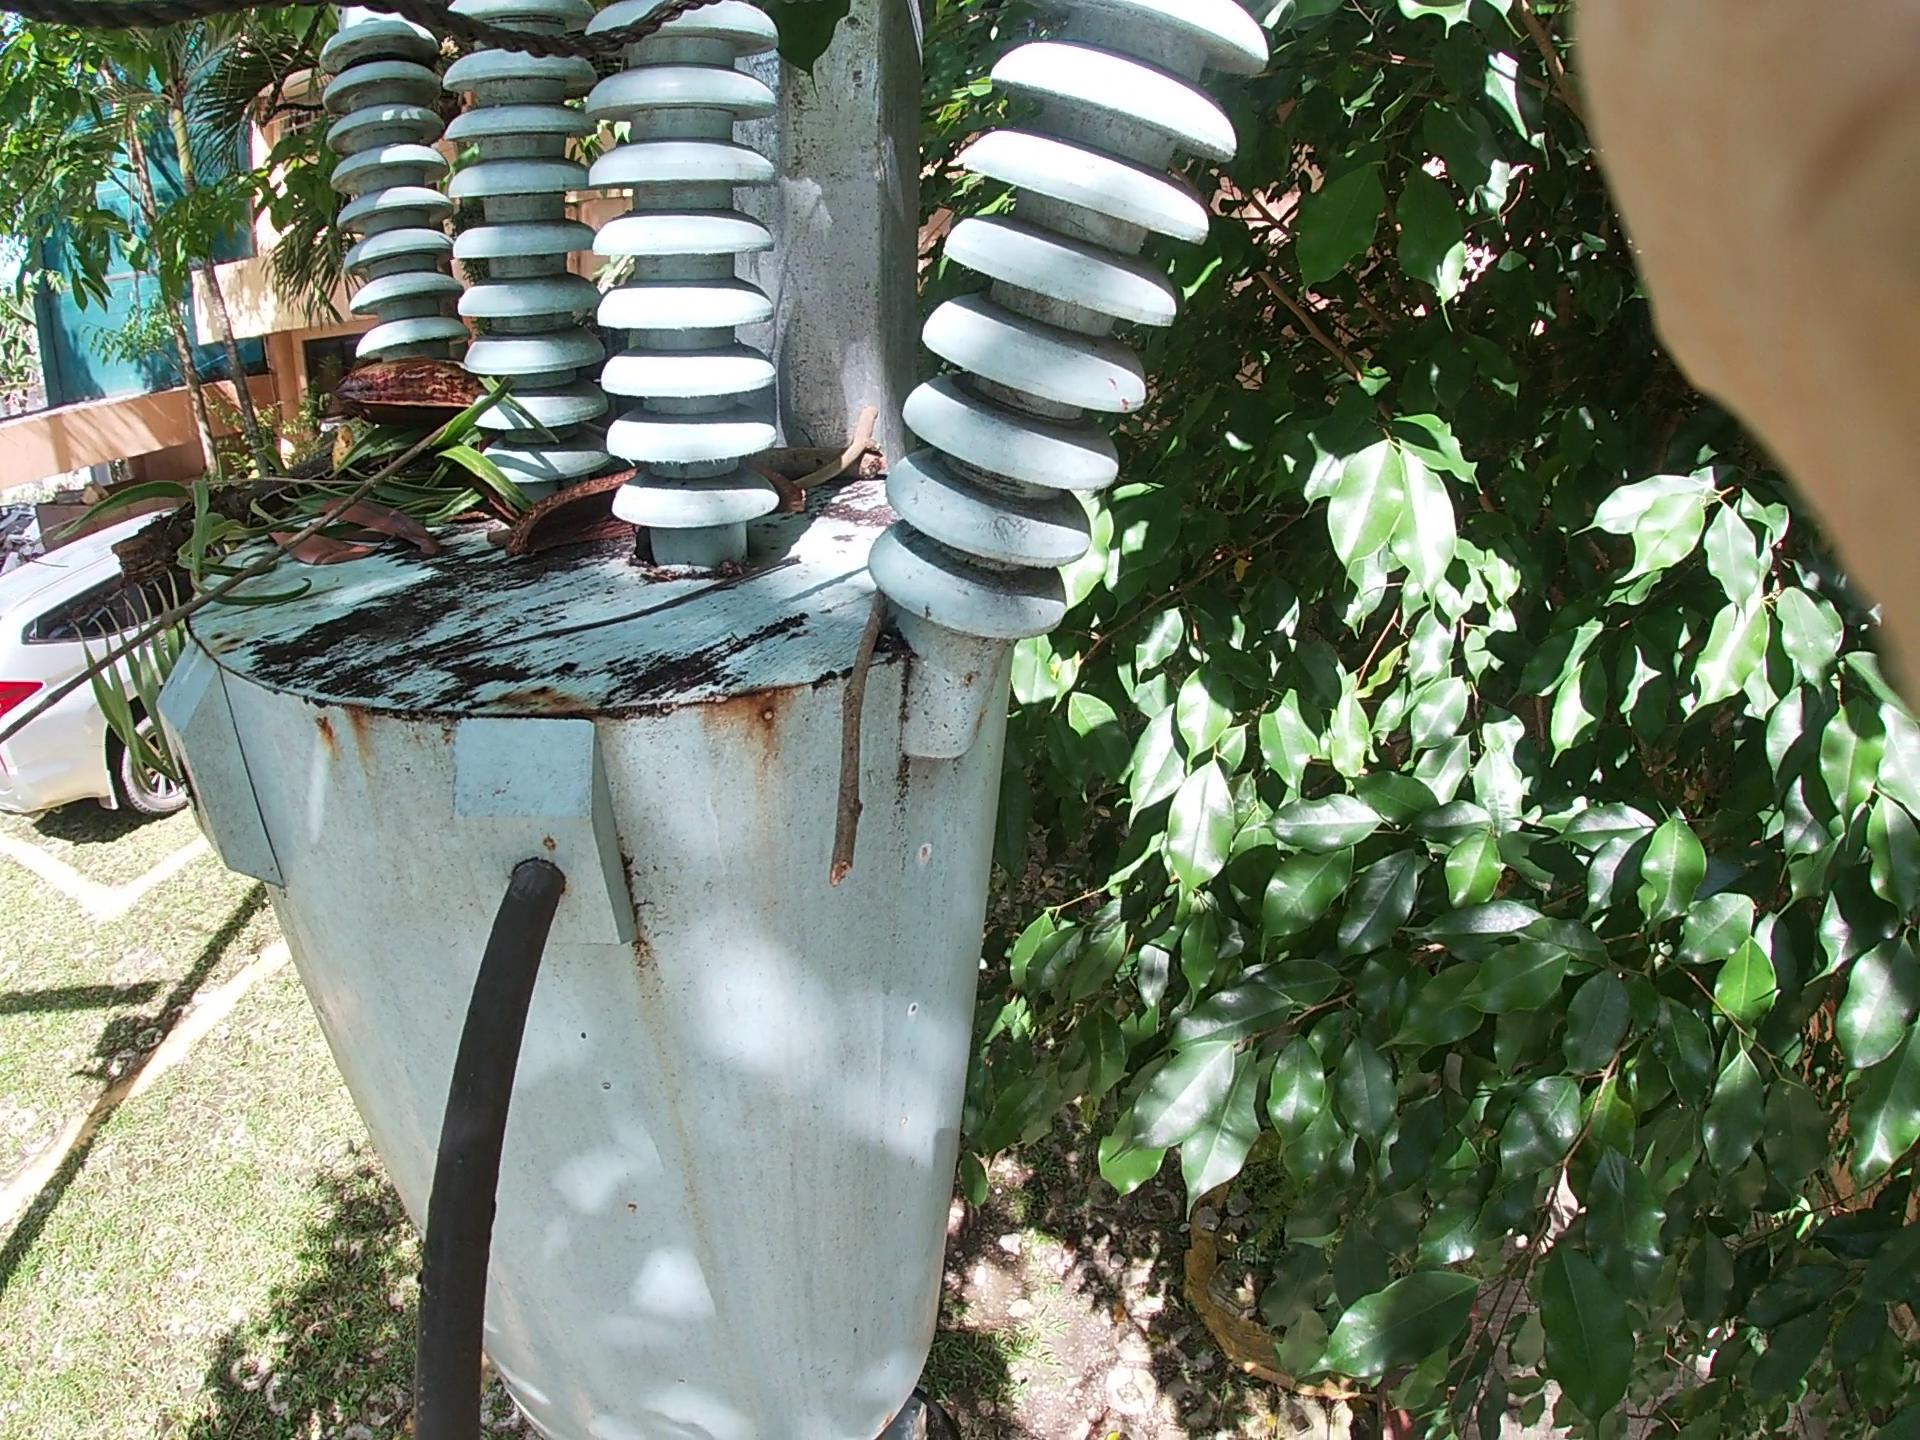branch with leaves: (107, 110, 757, 706)
leaf: (231, 492, 399, 611)
mahogany fruit: (494, 445, 788, 575), (314, 309, 528, 470)
tree branch: (54, 186, 632, 729), (822, 511, 937, 892), (777, 371, 877, 549)
